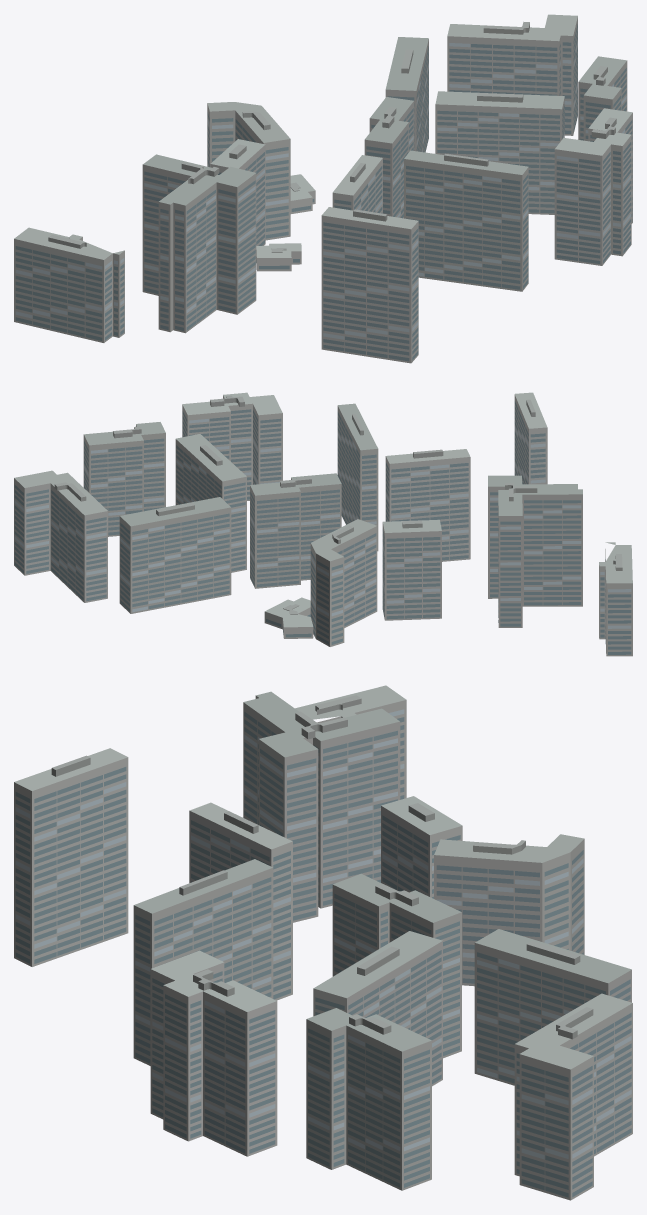
File: apt-a11081503.glb
3 renders of one model, top to bottom at view 1: azimuth 30°, elevation 25°; view 2: azimuth 150°, elevation 25°; view 3: azimuth 270°, elevation 25°, orthographic. The views are drawn at different scales.
Visible parts, largest first — view 1: apt-a11081503; view 2: apt-a11081503; view 3: apt-a11081503.
Part boxes in pixels (<box>): apt-a11081503: <box>14,14,632,363</box>; apt-a11081503: <box>14,392,632,656</box>; apt-a11081503: <box>14,685,632,1200</box>.
Bounding box in the file's own units: 305 × 64 × 196.
